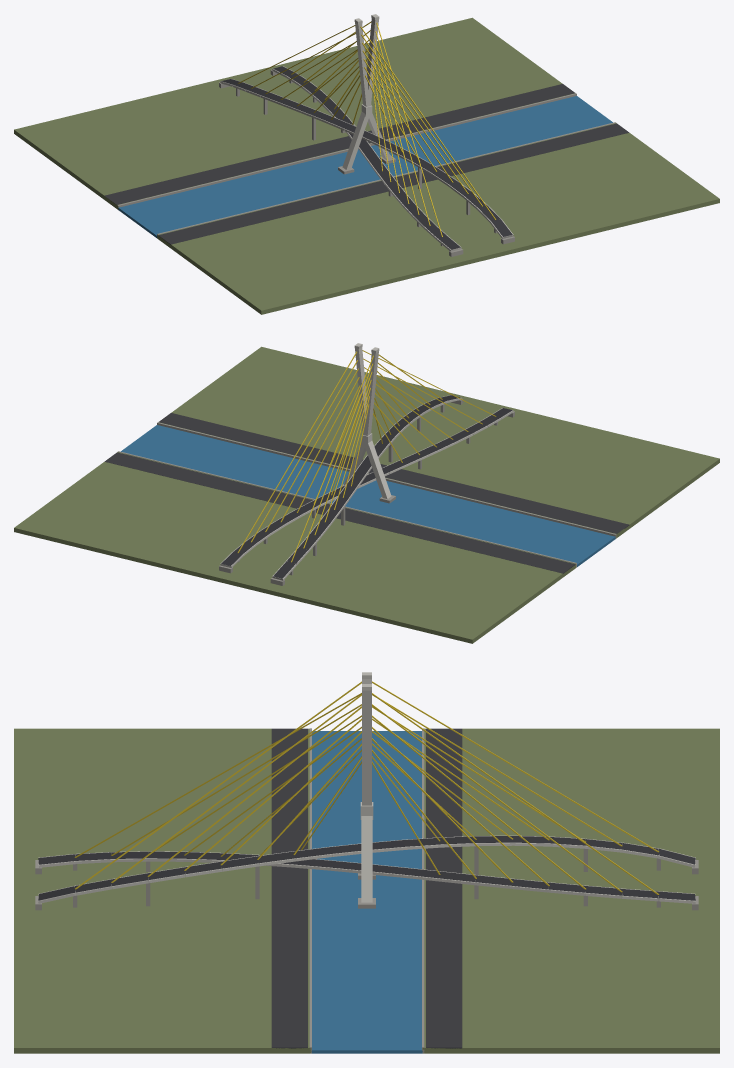
Rendered from ponte_estaiada.glb.
3 renders of one model, top to bottom at view 1: azimuth 30°, elevation 25°; view 2: azimuth 150°, elevation 25°; view 3: azimuth 270°, elevation 25°, orthographic. The views are drawn at different scales.
Visible parts, largest first — view 1: ponte_estaiada; view 2: ponte_estaiada; view 3: ponte_estaiada.
Boxes of the visible parts, left/top/right/bottom form: ponte_estaiada: left=14, top=14, right=719, bottom=314; ponte_estaiada: left=14, top=343, right=719, bottom=643; ponte_estaiada: left=14, top=672, right=719, bottom=1053.
Size of the model in its own units: 460 by 144 by 430.
